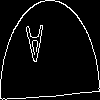A: (25, 25, 44, 73)
